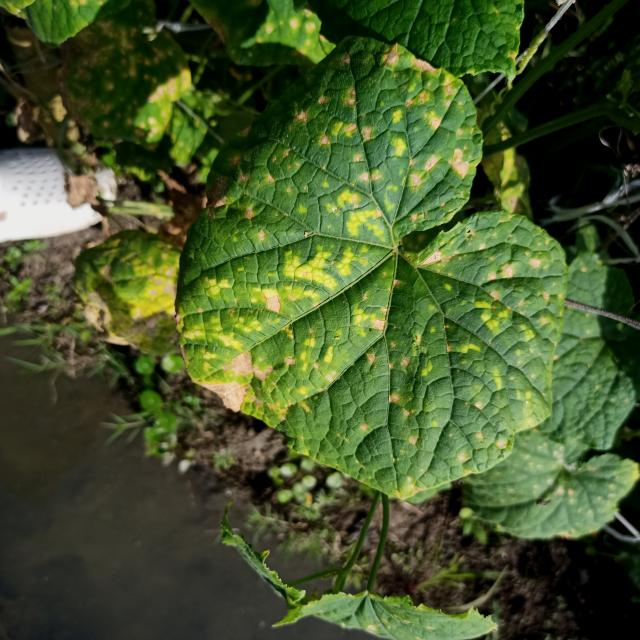disease_cucumber: (189, 36, 558, 486)
